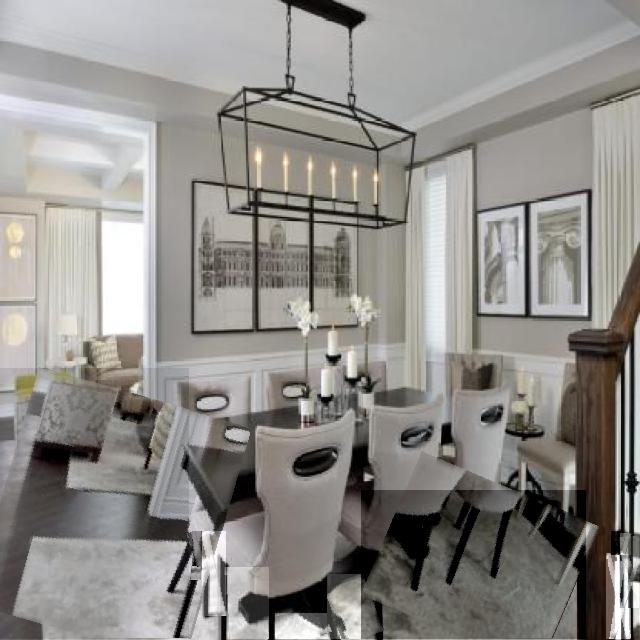floor: (0, 369, 189, 639), (361, 490, 586, 639), (328, 574, 383, 640), (227, 567, 269, 640), (610, 555, 639, 638), (606, 553, 631, 639), (203, 531, 226, 616), (275, 613, 332, 640), (609, 553, 626, 639), (619, 536, 639, 606), (192, 532, 206, 570), (611, 531, 623, 555), (621, 533, 631, 555), (192, 567, 201, 579)
